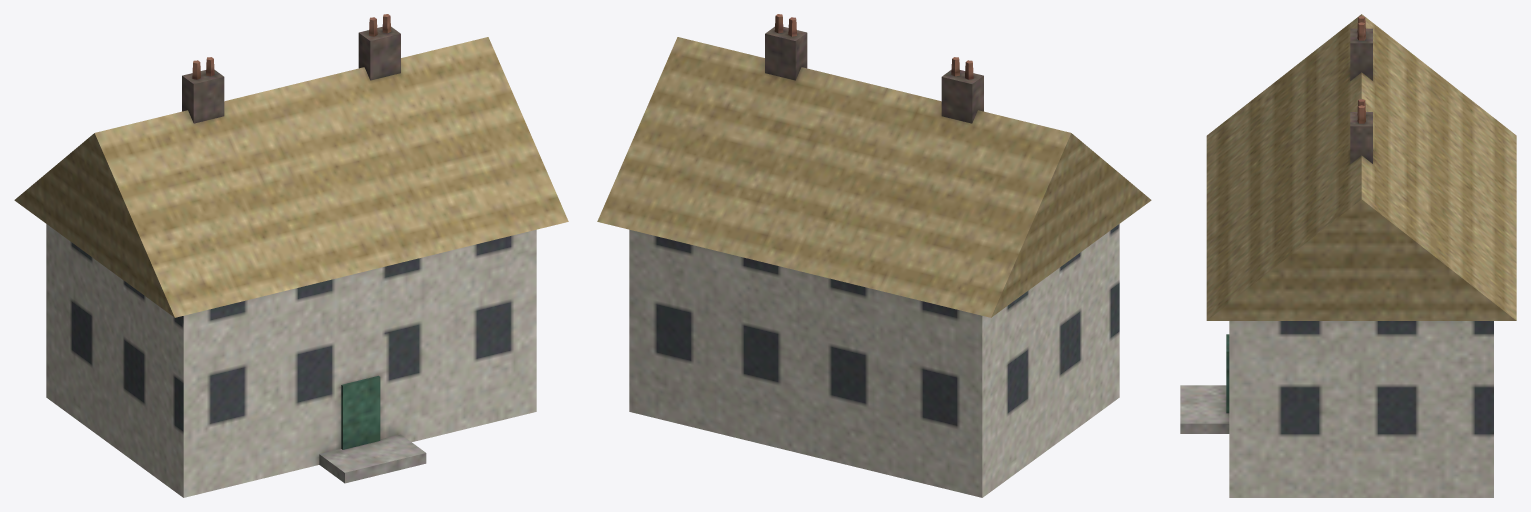
The model's file is SM_Farmhouse.fbx.
The picture shows the model from 3 angles, left to right: view 1: azimuth 30°, elevation 25°; view 2: azimuth 150°, elevation 25°; view 3: azimuth 270°, elevation 25°; orthographic projection. The views are drawn at different scales.
Visible parts, largest first — view 1: SM_Farmhouse; view 2: SM_Farmhouse; view 3: SM_Farmhouse.
Boxes of the visible parts, x1,y1,x2,y2 form: SM_Farmhouse: (14, 14, 568, 497); SM_Farmhouse: (597, 14, 1151, 497); SM_Farmhouse: (1180, 14, 1516, 497).
Bounding box in the file's own units: 1160 × 1030 × 890.
Materials: 1 (1 with a texture image).
